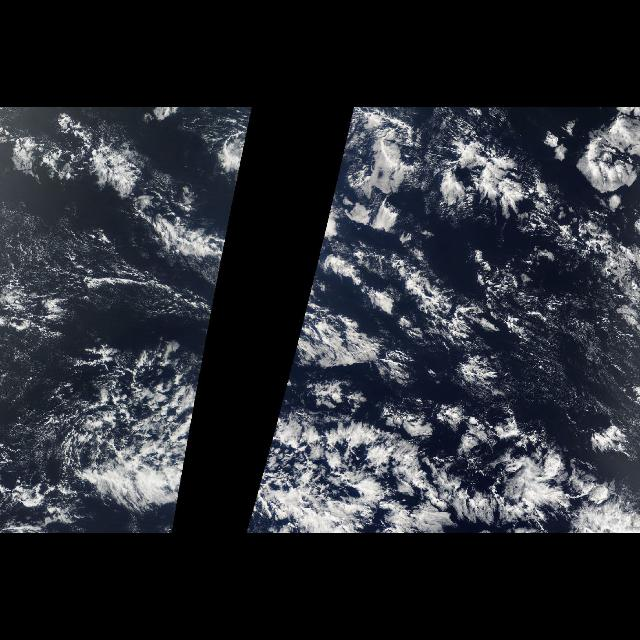Fish: (245, 133, 640, 533), (9, 133, 248, 533)
Flower: (289, 110, 639, 372), (85, 110, 252, 372)
Sugar: (1, 194, 110, 396), (504, 296, 640, 446)
